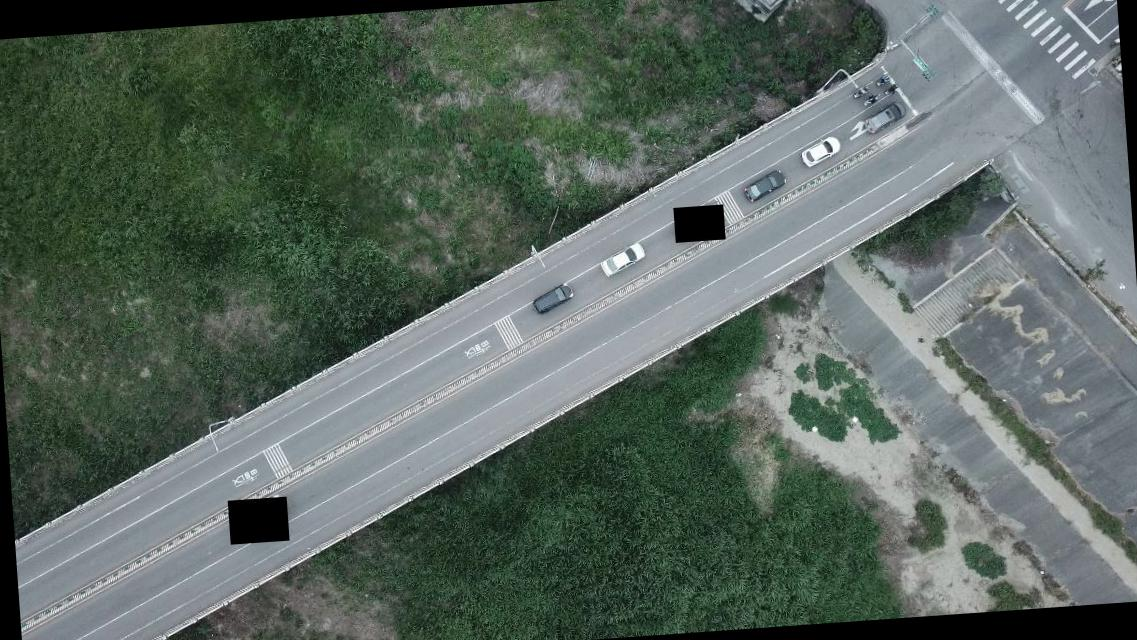vehicle: (598, 242, 646, 276), (741, 170, 788, 202), (530, 282, 576, 314), (800, 134, 842, 168), (862, 102, 906, 134)
